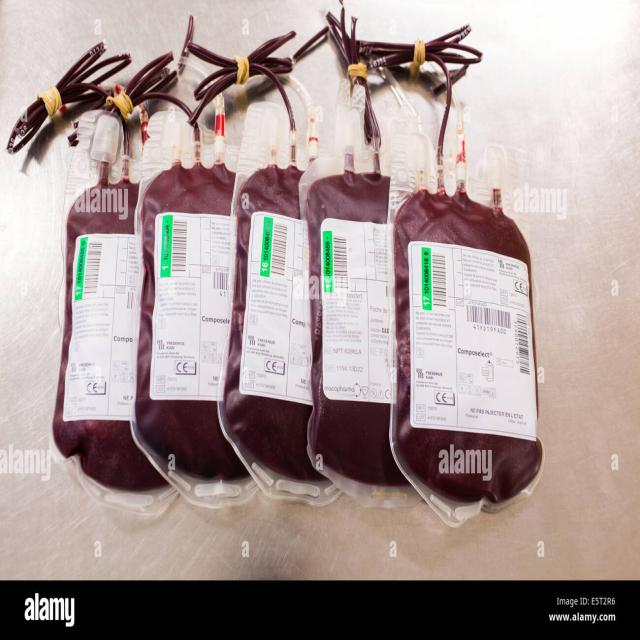B3: (388, 169, 550, 534)
